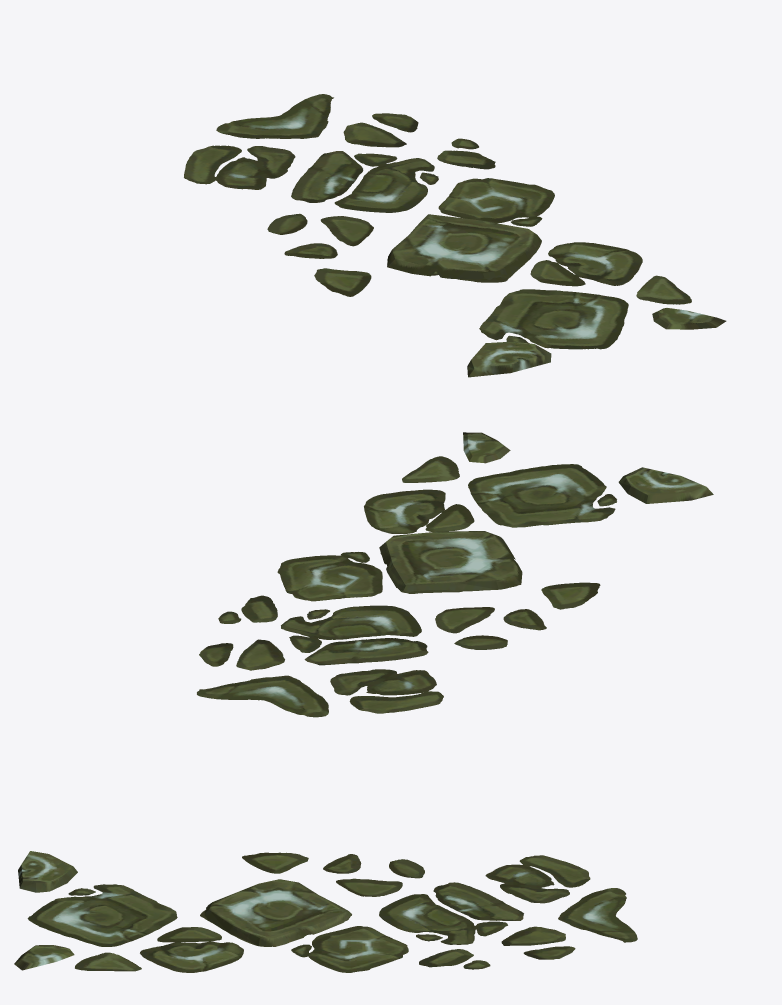
File: pavers_straight_snow_01.fbx
3 views of the same model, one above another, from view 1: azimuth 30°, elevation 25°; view 2: azimuth 150°, elevation 25°; view 3: azimuth 270°, elevation 25° (orthographic). The views are drawn at different scales.
Parts seen in each view (by area): view 1: obj0.099; view 2: obj0.099; view 3: obj0.099.
Boxes of the visible parts, bbox=[...] form: obj0.099: bbox=[184, 94, 726, 377]; obj0.099: bbox=[197, 432, 713, 717]; obj0.099: bbox=[14, 851, 637, 972].
Size of the model in its own units: 5 by 0.1427 by 10.16.
